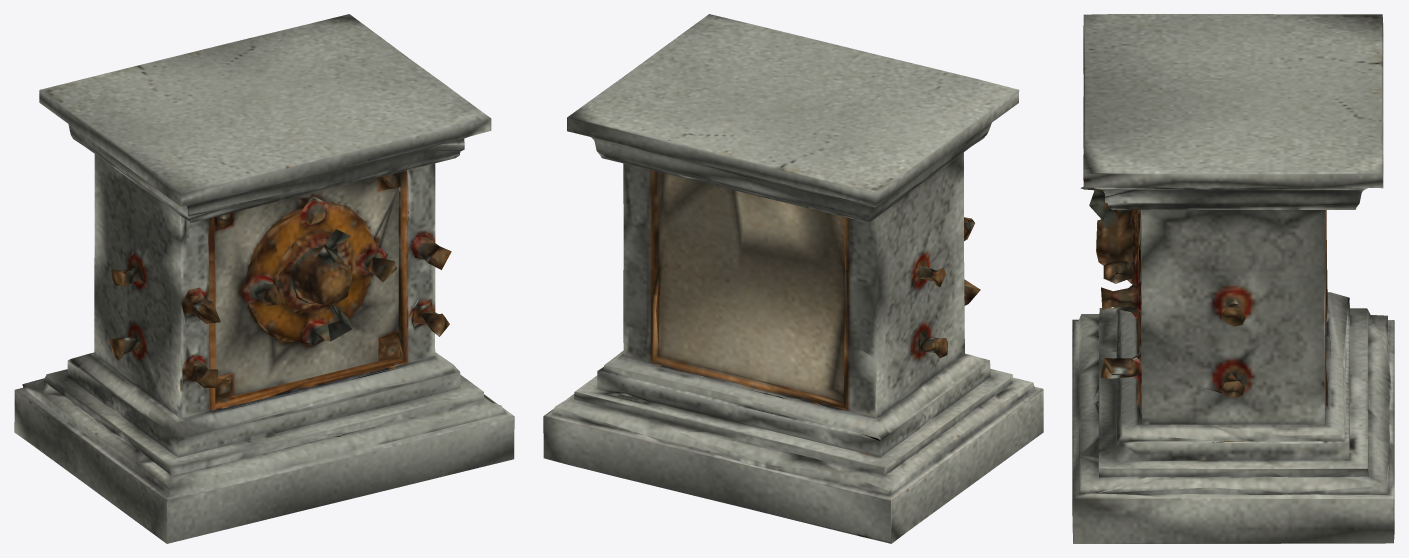
The model's file is puzzle.glb.
3 renders of one model, left to right at view 1: azimuth 30°, elevation 25°; view 2: azimuth 150°, elevation 25°; view 3: azimuth 270°, elevation 25°, orthographic. The views are drawn at different scales.
Parts seen in each view (by area): view 1: Mesh_0.001; view 2: Mesh_0.001; view 3: Mesh_0.001.
Part boxes in pixels (x1,y1,x2,y2): Mesh_0.001: [14, 14, 514, 543]; Mesh_0.001: [543, 14, 1043, 543]; Mesh_0.001: [1072, 14, 1394, 543].
Bounding box in the file's own units: 1.9 × 1.79 × 1.45.
1 material, 1 textured.
